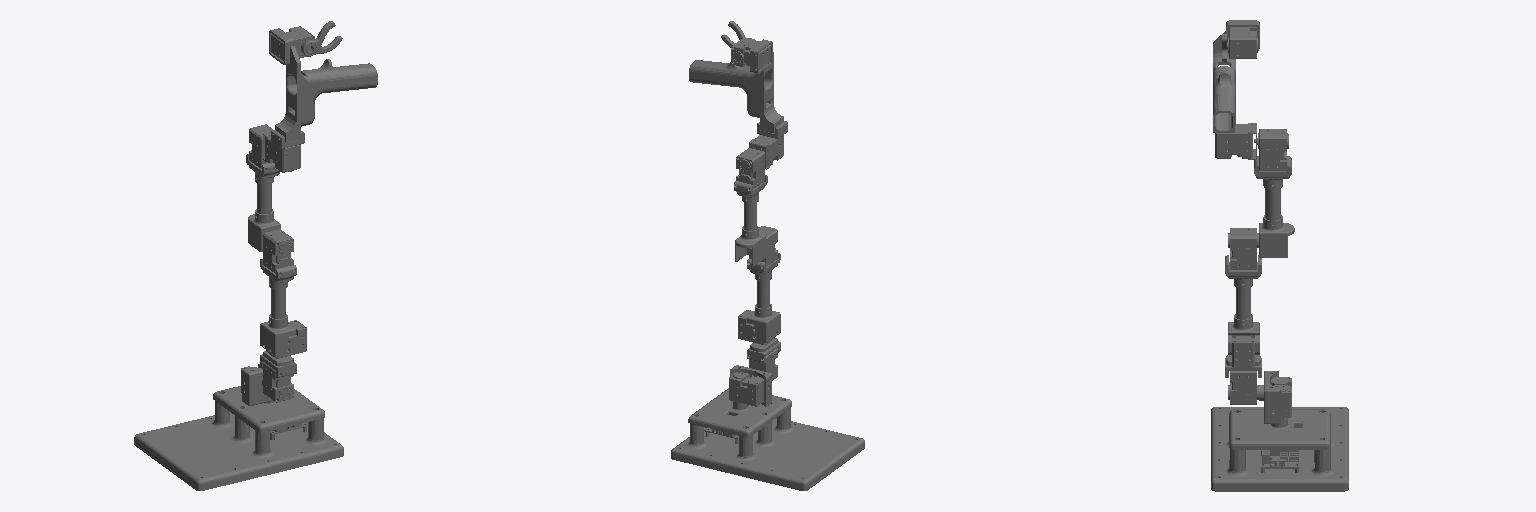
robot.urdf — leader:
<?xml version="1.0" ?>
<robot name="leader">
    <material name="grey">
        <color rgba="0.5 0.5 0.5 1.0" />
    </material>

    <link name="base_link">
        <visual>
            <geometry>
                <mesh filename="package://leader_description/meshes/Base_link.STL" />
            </geometry>
            <material name="grey" />
        </visual>
        <collision>
            <geometry>
                <mesh filename="package://leader_description/meshes/Base_link.STL" />
            </geometry>
        </collision>
        <inertial>
            <mass value="0.760315" />
            <origin xyz="0.011296 -0.000093 0.017421" rpy="0 0 0" />
            <inertia ixx="0.001892" ixy="-0.000004" ixz="0.000251"
                     iyy="0.003009" iyz="-0.000002"
                     izz="0.004372" />
        </inertial>
    </link>


    <joint name="shoulder_yaw_joint" type="revolute">
        <parent link="base_link" />
        <child link="shoulder_link" />
        <origin xyz="0.045 0.000 0.073" rpy="0 0 0" />
        <axis xyz="0 0 -1" />
        <limit effort="10" velocity="3.0" lower="-3.14" upper="3.14" />
    </joint>

    <link name="shoulder_link">
        <visual>
            <geometry>
                <mesh filename="package://leader_description/meshes/Shoulder_link.STL" />
            </geometry>
            <material name="grey" />
        </visual>
        <collision>
            <geometry>
                <mesh filename="package://leader_description/meshes/Shoulder_link.STL" />
            </geometry>
        </collision>
        <inertial>
            <mass value="0.104932" />
            <origin xyz="-0.011744 -0.003190 0.018889" rpy="0 0 0" />
            <inertia ixx="0.000022" ixy="0.000000" ixz="0.0000000"
                     iyy="0.000036" iyz="0.000000"
                     izz="0.000034" />
        </inertial>
    </link>

    <joint name="upper_shoulder_pitch_joint" type="revolute">
        <parent link="shoulder_link" />
        <child link="upper_shoulder_link" />
        <origin xyz="-0.012 -0.026 0.026" rpy="0 0 0" />
        <axis xyz="0 -1 0" />
        <limit effort="10" velocity="3.0" lower="-1.70" upper="1.70" />
    </joint>

    <link name="upper_shoulder_link">
        <visual>
            <geometry>
                <mesh filename="package://leader_description/meshes/Upper_shoulder_link.STL" />
            </geometry>
            <material name="grey" />
        </visual>
        <collision>
            <geometry>
                <mesh filename="package://leader_description/meshes/Upper_shoulder_link.STL" />
            </geometry>
        </collision>
        <inertial>
            <mass value="0.098298" />
            <origin xyz="0.000000 -0.018677 0.016030" rpy="0 0 0" />
            <inertia ixx="0.000037" ixy="0.000000" ixz="0.000000"
                     iyy="0.000032" iyz="0.000000"
                     izz="0.000018" />
        </inertial>
    </link>

    <joint name="arm_yaw_joint" type="revolute">
        <parent link="upper_shoulder_link" />
        <child link="arm_link" />
        <origin xyz="0.000 -0.019 0.048" rpy="0 0 0" />
        <axis xyz="0 0 -1" />
        <limit effort="10" velocity="3.0" lower="-3.14" upper="3.14" />
    </joint>

    <link name="arm_link">
        <visual>
            <geometry>
                <mesh filename="package://leader_description/meshes/Arm_link.STL" />
            </geometry>
            <material name="grey" />
        </visual>
        <collision>
            <geometry>
                <mesh filename="package://leader_description/meshes/Arm_link.STL" />
            </geometry>
        </collision>
        <inertial>
            <mass value="0.198517" />
            <origin xyz="0.004663 0.000160 0.082369" rpy="0 0 0" />
            <inertia ixx="0.000775" ixy="0.000000" ixz="-0.000059"
                     iyy="0.000786" iyz="0.000002"
                     izz="0.000047" />
        </inertial>
    </link>

    <joint name="forearm_pitch_joint" type="revolute">
        <parent link="arm_link" />
        <child link="forearm_link" />
        <origin xyz="0.000 0.019 0.159" rpy="0 0 0" />
        <axis xyz="0 -1 0" />
        <limit effort="10" velocity="3.0" lower="-2.33" upper="2.4" />
    </joint>

    <link name="forearm_link">
        <visual>
            <geometry>
                <mesh filename="package://leader_description/meshes/Forearm_link.STL" />
            </geometry>
            <material name="grey" />
        </visual>
        <collision>
            <geometry>
                <mesh filename="package://leader_description/meshes/Forearm_link.STL" />
            </geometry>
        </collision>
        <inertial>
            <mass value="0.120758" />
            <origin xyz="0.000000 0.016998 0.099892" rpy="0 0 0" />
            <inertia ixx="0.000231" ixy="0.000000" ixz="0.000000"
                     iyy="0.000226" iyz="0.000002"
                     izz="0.000021" />
        </inertial>
    </link>

    <joint name="wrist_pitch_joint" type="revolute">
        <parent link="forearm_link" />
        <child link="wrist_link" />
        <origin xyz="0.000 -0.002 0.135" rpy="0 0 0" />
        <axis xyz="0 1 0" />
        <limit effort="10" velocity="3.0" lower="-1.86" upper="1.69" />
    </joint>

    <link name="wrist_link">
        <visual>
            <geometry>
                <mesh filename="package://leader_description/meshes/Wrist_link.STL" />
            </geometry>
            <material name="grey" />
        </visual>
        <collision>
            <geometry>
                <mesh filename="package://leader_description/meshes/Wrist_link.STL" />
            </geometry>
        </collision>
        <inertial>
            <mass value="0.091000" />
            <origin xyz="0.000000 -0.027250 0.000360" rpy="0 0 0" />
            <inertia ixx="0.000028" ixy="0.000000" ixz="0.000000"
                     iyy="0.000015" iyz="0.000000"
                     izz="0.000024" />
        </inertial>
    </link>

    <joint name="palm_yaw_joint" type="revolute">
        <parent link="wrist_link" />
        <child link="palm_link" />
        <origin xyz="0.000 -0.041 0.019" rpy="0 0 0" />
        <axis xyz="0 0 1" />
        <limit effort="10" velocity="3.0" lower="-3.14" upper="3.14" />
    </joint>

    <link name="palm_link">
        <visual>
            <geometry>
                <mesh filename="package://leader_description/meshes/Palm_link.STL" />
            </geometry>
            <material name="grey" />
        </visual>
        <collision>
            <geometry>
                <mesh filename="package://leader_description/meshes/Palm_link.STL" />
            </geometry>
        </collision>
        <inertial>
            <mass value="0.167758" />
            <origin xyz="0.025752 0.013110 0.095377" rpy="0 0 0" />
            <inertia ixx="0.000295" ixy="-0.000011" ixz="-0.000004"
                     iyy="0.000363" iyz="0.000062"
                     izz="0.000136" />
        </inertial>
    </link>

    <joint name="gripper_prismatic_joint" type="revolute">
        <parent link="palm_link" />
        <child link="gripper_link" />
        <origin xyz="0.033 0.004 0.127" rpy="0 0 0" />
        <axis xyz="0 -1 0" />
        <limit effort="1" velocity="4.8" lower="-0.4" upper="0.0" />
    </joint>

    <link name="gripper_link">
        <visual>
            <geometry>
                <mesh filename="package://leader_description/meshes/Gripper_link.STL" />
            </geometry>
            <material name="grey" />
        </visual>
        <collision>
            <geometry>
                <mesh filename="package://leader_description/meshes/Gripper_link.STL" />
            </geometry>
        </collision>
        <inertial>
            <mass value="0.006201" />
            <origin xyz="0.017052 -0.003500 0.004139" rpy="0 0 0" />
            <inertia ixx="0.000001" ixy="0.000000" ixz="0.000000"
                     iyy="0.000002" iyz="0.000000"
                     izz="0.000001" />
        </inertial>
    </link>

    <joint name="ee_joint" type="fixed">
        <parent link="palm_link" />
        <child link="ee_link" />
        <origin xyz="0.060 0.000 0.135" rpy="0 0 0" />
    </joint>

    <link name="ee_link" />

</robot>

--- Facts derived from the render (not from the file) ---
The picture shows the robot from 3 angles, left to right: view 1: azimuth 30°, elevation 25°; view 2: azimuth 150°, elevation 25°; view 3: azimuth 270°, elevation 25°; orthographic projection.
Model leader with 9 links and 8 joints (7 revolute, 1 fixed), rooted at base_link, posed every joint at zero.
Links seen in each view (by area): view 1: base_link, palm_link, arm_link, forearm_link, upper_shoulder_link, wrist_link, shoulder_link, gripper_link; view 2: base_link, palm_link, arm_link, forearm_link, shoulder_link, upper_shoulder_link, wrist_link; view 3: base_link, arm_link, forearm_link, palm_link, shoulder_link, upper_shoulder_link, wrist_link.
Boxes of the visible links, x1,y1,x2,y2 form: base_link: [134, 386, 343, 490]; palm_link: [269, 26, 377, 148]; arm_link: [260, 229, 306, 358]; forearm_link: [246, 124, 280, 251]; upper_shoulder_link: [260, 351, 296, 402]; wrist_link: [263, 132, 300, 172]; shoulder_link: [241, 364, 273, 405]; gripper_link: [301, 21, 342, 56]; base_link: [671, 388, 864, 490]; palm_link: [689, 38, 787, 138]; arm_link: [738, 226, 780, 344]; forearm_link: [734, 148, 767, 265]; shoulder_link: [729, 365, 771, 406]; upper_shoulder_link: [747, 338, 780, 380]; wrist_link: [749, 135, 783, 169]; base_link: [1211, 407, 1348, 491]; arm_link: [1225, 228, 1261, 367]; forearm_link: [1254, 129, 1294, 257]; palm_link: [1213, 20, 1259, 132]; shoulder_link: [1259, 371, 1291, 423]; upper_shoulder_link: [1225, 355, 1261, 404]; wrist_link: [1215, 123, 1256, 159].
Bounding box of the posed robot: 0.2695 × 0.17 × 0.6181 m (x, y, z).
8 mesh visuals loaded from 8 distinct referenced files (8 binary STL).
